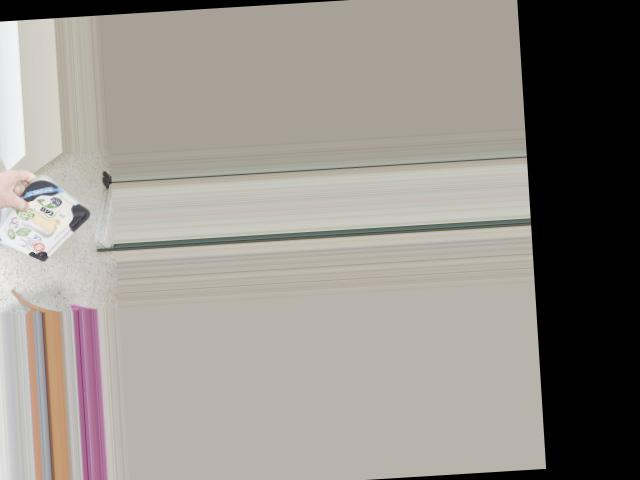cheese: (4, 154, 80, 268)
